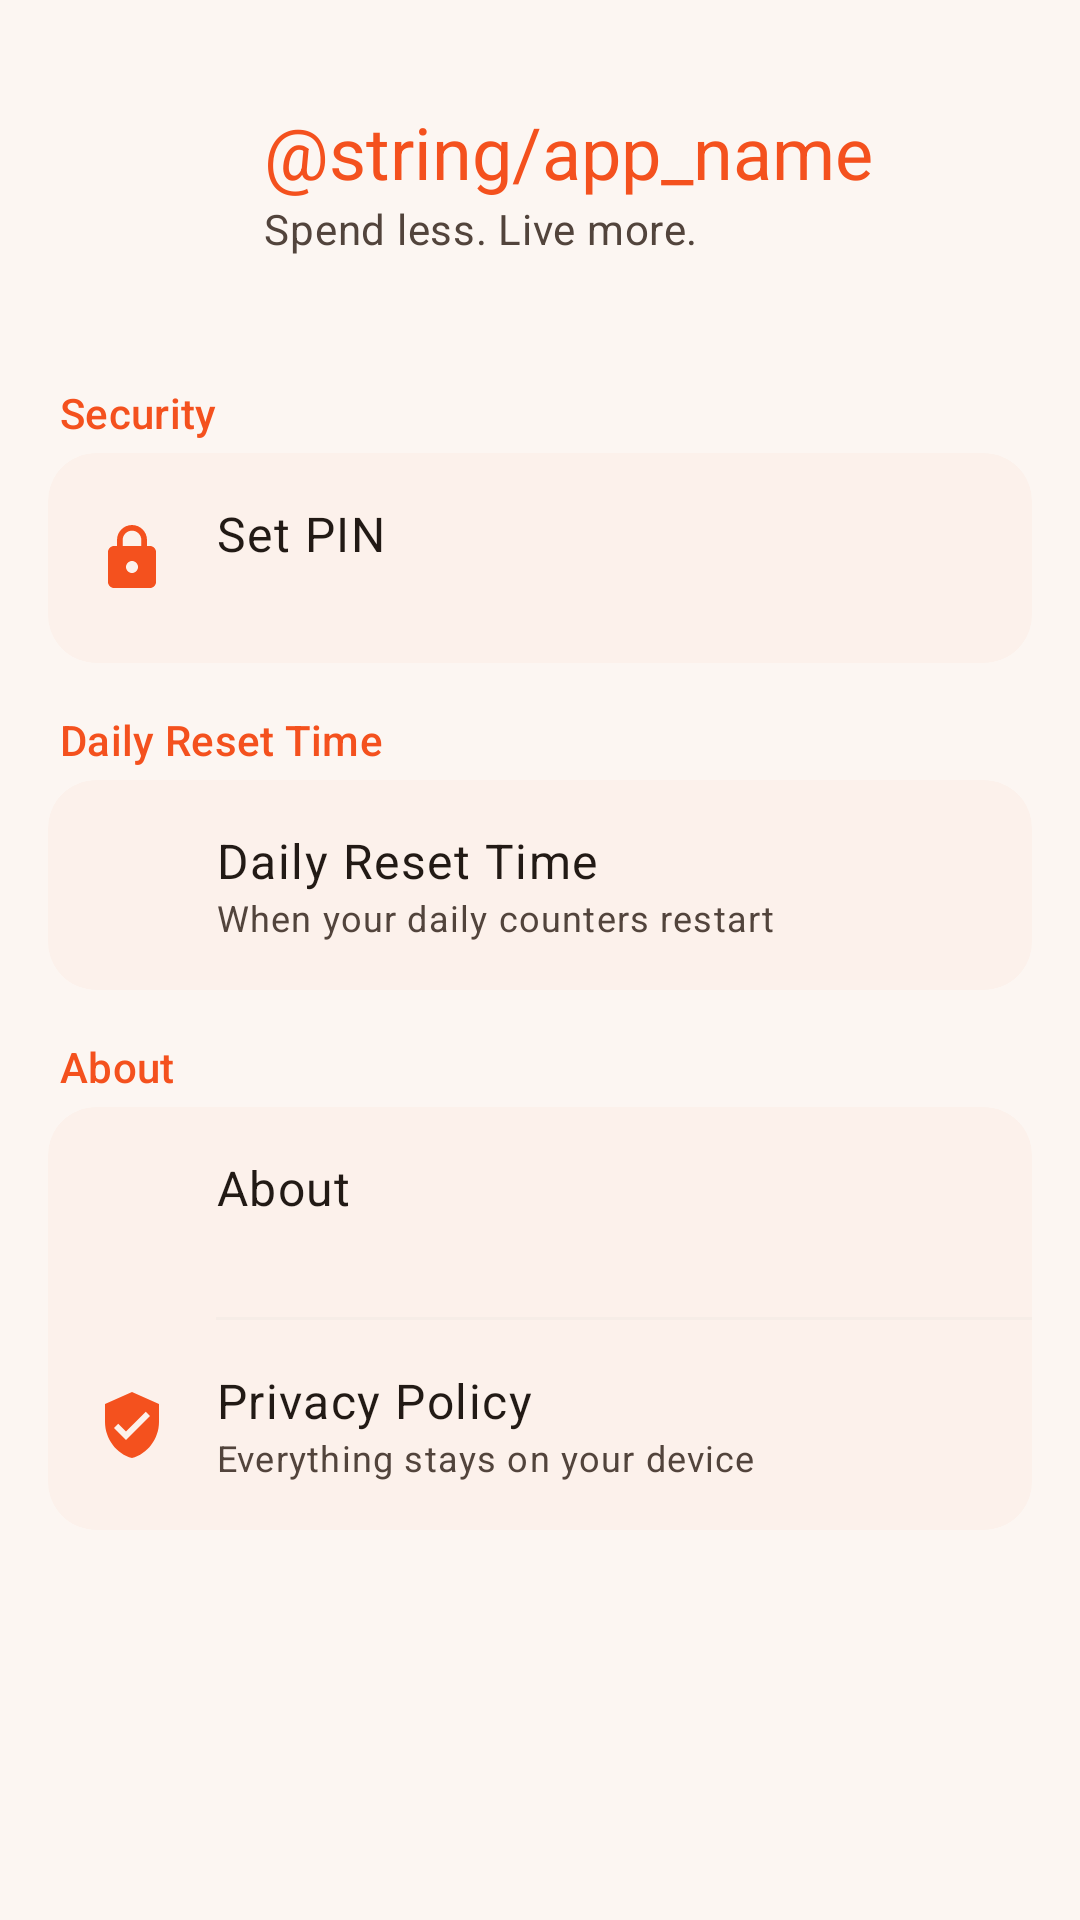

Screen size 1080 × 1920. Icon name, then its center in pixels as point (x, y):
lock: point (132, 556)
shield: point (132, 1425)
